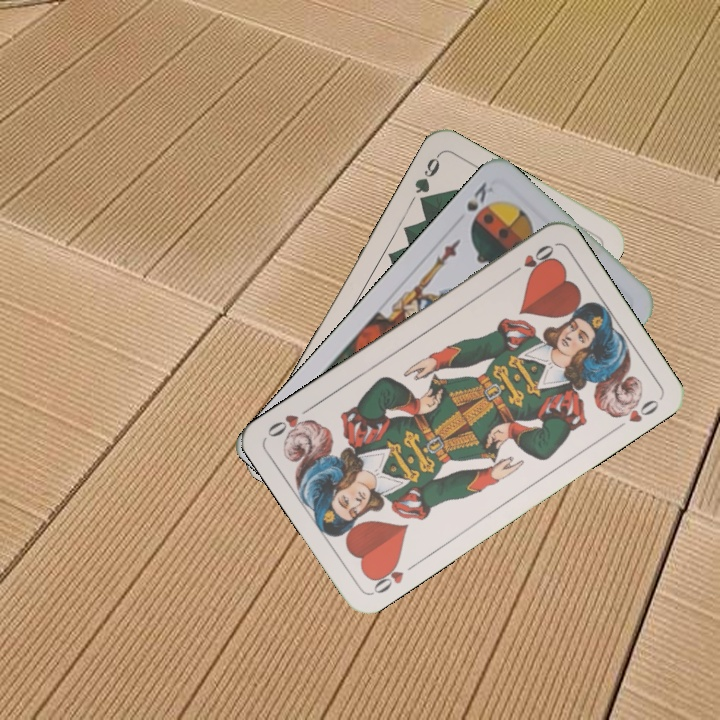G9: (410, 150, 443, 209)
HO: (366, 555, 421, 597), (505, 240, 557, 279)
SK: (462, 178, 497, 228)
